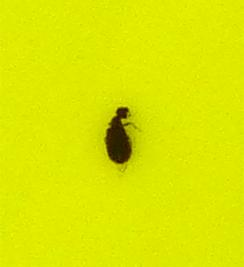Coleoptera: (100, 100, 144, 167)
